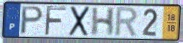2: (141, 8, 159, 38)
F: (43, 5, 68, 37)
H: (90, 7, 117, 37)
P: (19, 5, 45, 36)
R: (113, 6, 140, 39)
X: (68, 5, 92, 38)
